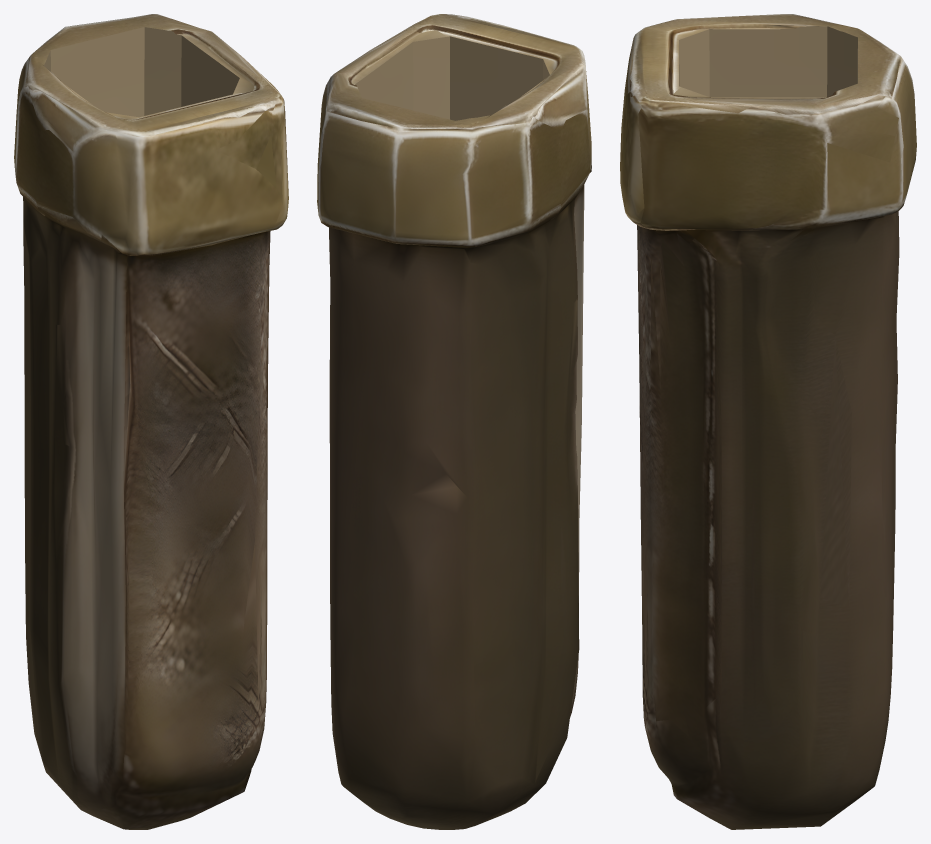
File: TallSleeve-game-v1.glb
The picture shows the model from 3 angles, left to right: view 1: azimuth 30°, elevation 25°; view 2: azimuth 150°, elevation 25°; view 3: azimuth 270°, elevation 25°; orthographic projection.
Parts seen in each view (by area): view 1: TallSleeve; view 2: TallSleeve; view 3: TallSleeve.
Part boxes in pixels (<box>): TallSleeve: <box>14,14,288,829</box>; TallSleeve: <box>317,14,591,829</box>; TallSleeve: <box>620,14,916,829</box>.
Size of the model in its own units: 0.028 by 0.092 by 0.033.
Materials: 1 (1 with a texture image).
